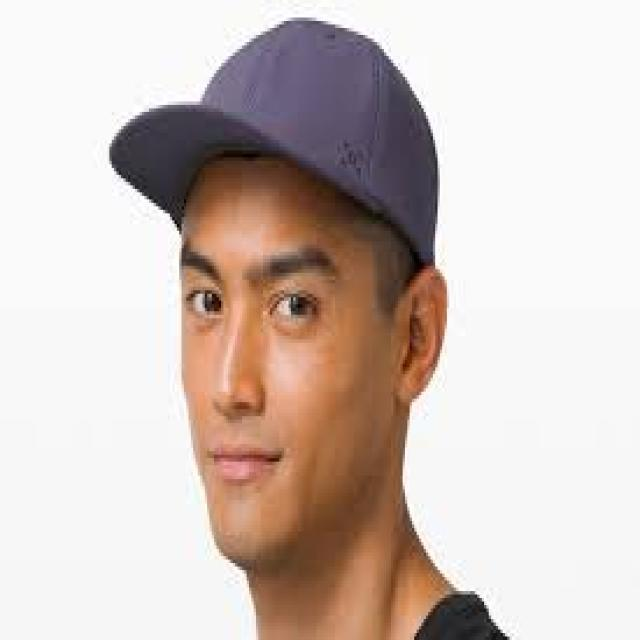cap: (90, 8, 476, 307)
